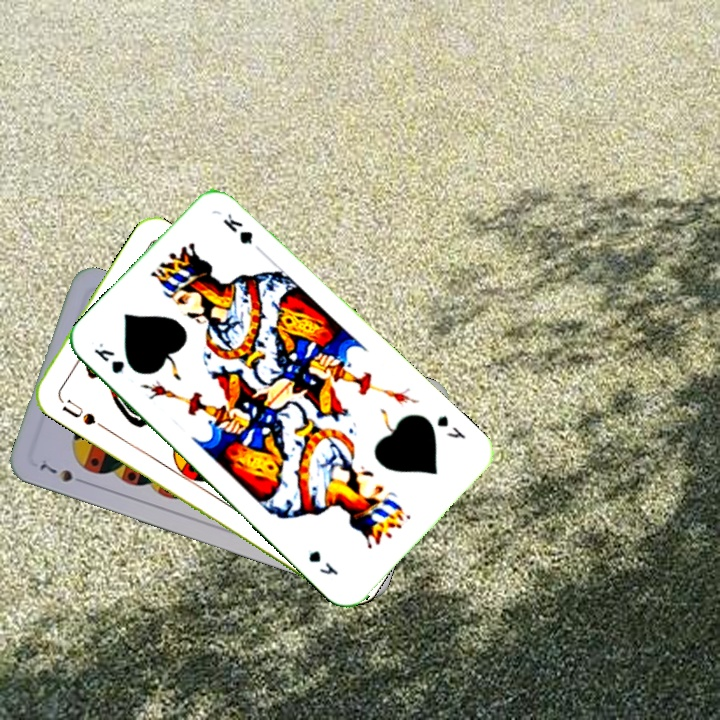GK: (89, 339, 128, 377), (433, 411, 469, 442)
S7: (36, 459, 90, 487)
SU: (54, 392, 98, 428)
